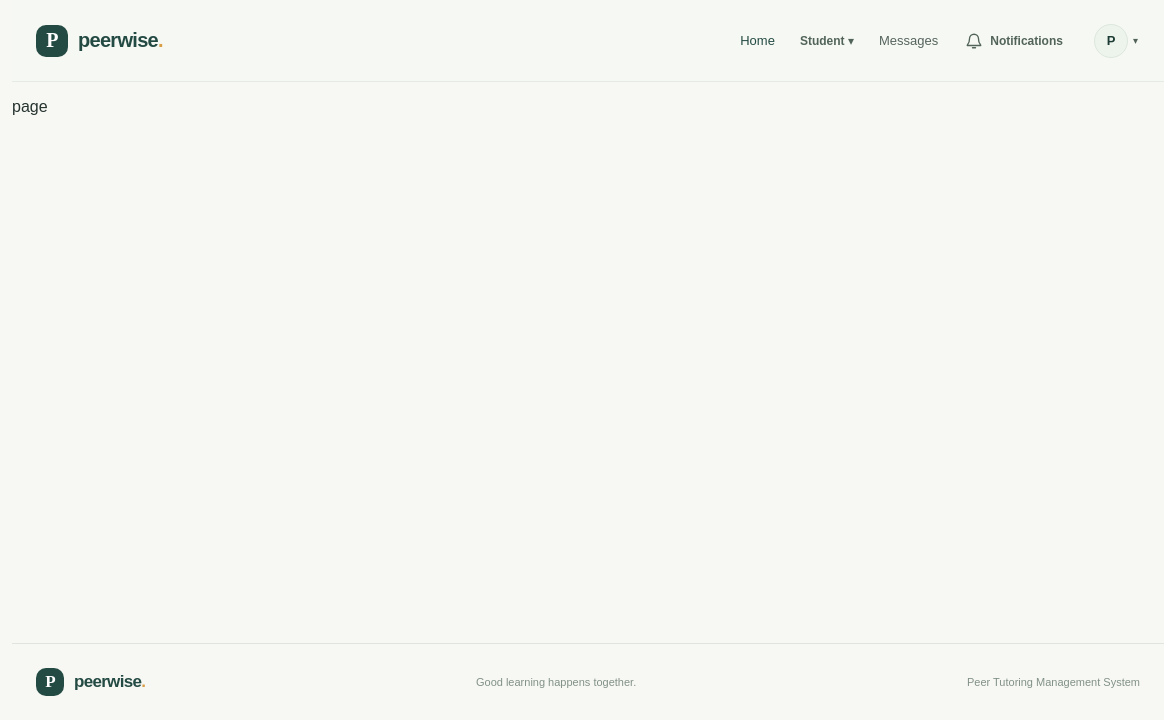
Scenario: authenticated navigation › hides Tutor navigation from a user without approved tutor status
The image size is (1164, 720).
Click the heading "Student ▾": (827, 40) x1=800 y1=34 x2=854 y2=48
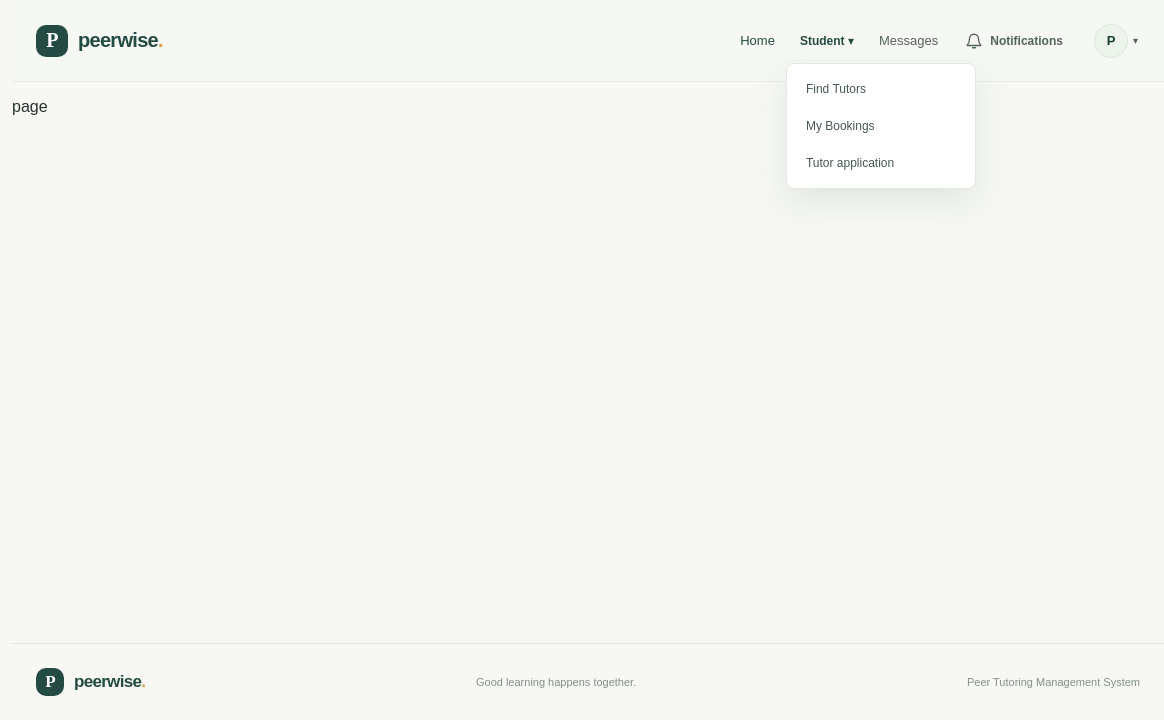
Now the link "Tutor application" is shown, box x1=806 y1=156 x2=894 y2=170
